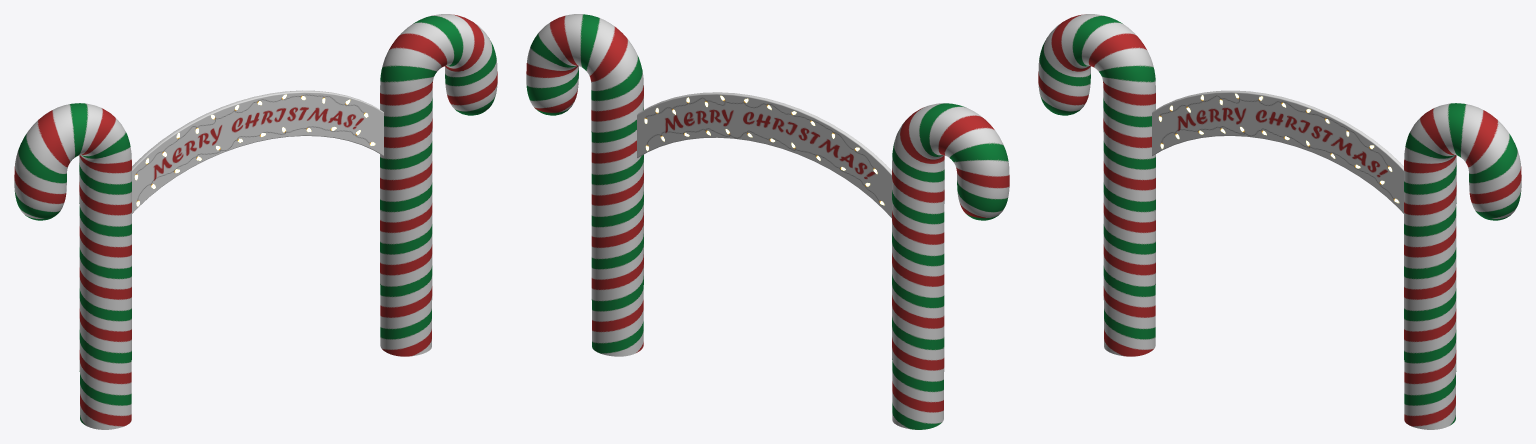
File: christmas_gate.glb
3 renders of one model, left to right at view 1: azimuth 30°, elevation 25°; view 2: azimuth 150°, elevation 25°; view 3: azimuth 330°, elevation 25°, orthographic.
Visible parts, largest first — view 1: Vert, Circle; view 2: Vert, Circle; view 3: Vert, Circle.
Boxes of the visible parts, x1,y1,x2,y2 form: Vert: (14,14,497,429); Circle: (132,90,383,213); Vert: (526,14,1009,429); Circle: (637,92,891,218); Vert: (1038,14,1521,429); Circle: (1152,90,1403,213).
Bounding box in the file's own units: 4.21 × 2.71 × 0.3969.
Materials: 1 (1 with a texture image).
